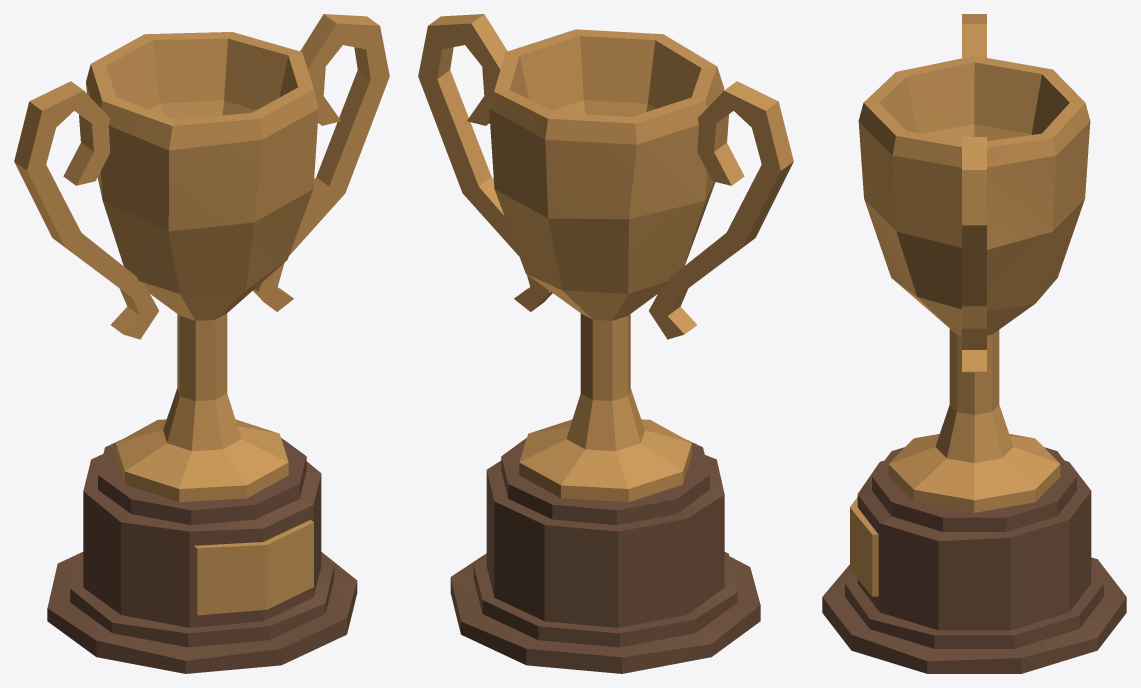
The model's file is SM_Prop_Trophy_01.glb.
The picture shows the model from 3 angles, left to right: view 1: azimuth 30°, elevation 25°; view 2: azimuth 150°, elevation 25°; view 3: azimuth 270°, elevation 25°; orthographic projection. The views are drawn at different scales.
Visible parts, largest first — view 1: SM_Prop_Trophy_01; view 2: SM_Prop_Trophy_01; view 3: SM_Prop_Trophy_01.
Boxes of the visible parts, <box> form: SM_Prop_Trophy_01: <box>14,14,389,673</box>; SM_Prop_Trophy_01: <box>418,14,793,673</box>; SM_Prop_Trophy_01: <box>822,14,1126,673</box>.
Size of the model in its own units: 0.3206 by 0.4709 by 0.2424.
Materials: 1 (1 with a texture image).
